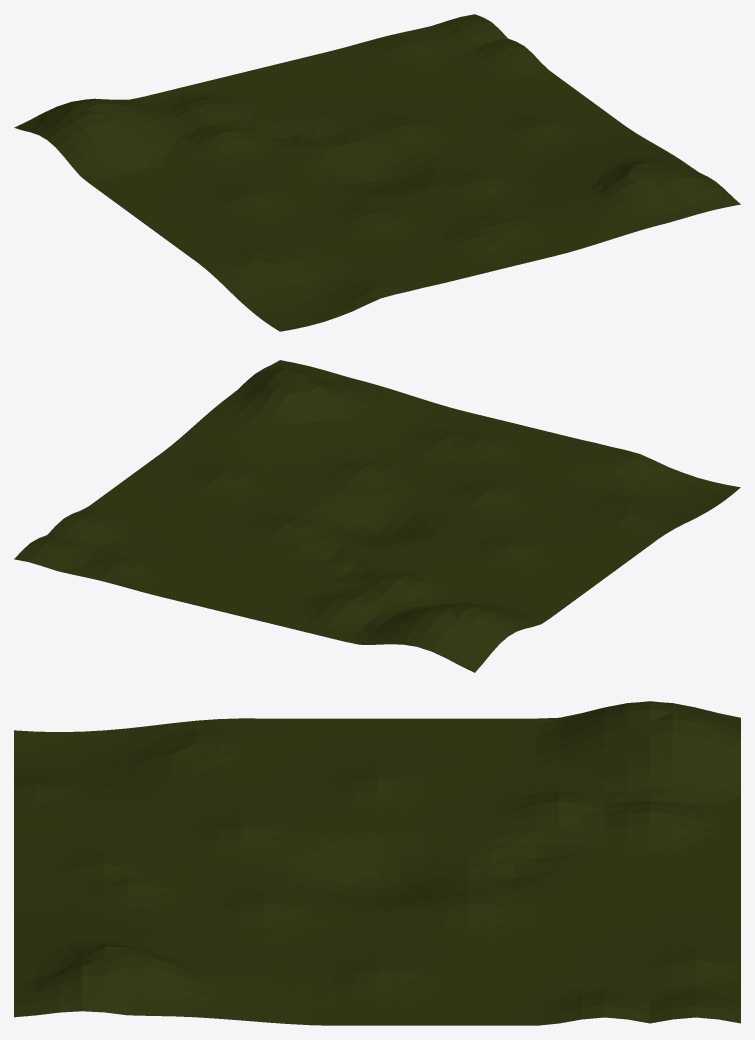
Rendered from ground.dae.
The picture shows the model from 3 angles, top to bottom: view 1: azimuth 30°, elevation 25°; view 2: azimuth 150°, elevation 25°; view 3: azimuth 270°, elevation 25°; orthographic projection. The views are drawn at different scales.
Parts seen in each view (by area): view 1: Plane; view 2: Plane; view 3: Plane.
Part boxes in pixels (box(x1,y1,x2,y2)): Plane: box(14, 14, 740, 331); Plane: box(14, 360, 740, 672); Plane: box(14, 701, 740, 1025).
Bounding box in the file's own units: 16.1 × 16.1 × 1.33.
